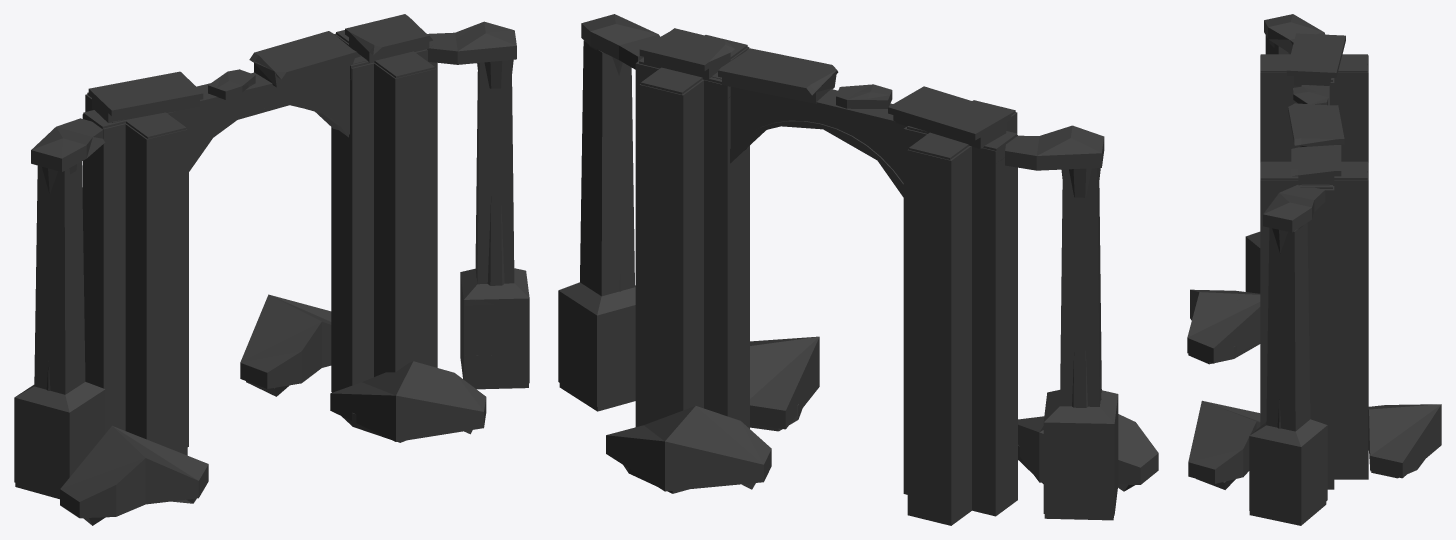
The model's file is ruinarch_01.glb.
The picture shows the model from 3 angles, left to right: view 1: azimuth 30°, elevation 25°; view 2: azimuth 150°, elevation 25°; view 3: azimuth 270°, elevation 25°; orthographic projection. The views are drawn at different scales.
Visible parts, largest first — view 1: geometry_0; view 2: geometry_0; view 3: geometry_0.
Part boxes in pixels (box(x1,y1,x2,y2)): geometry_0: box(14, 14, 529, 525); geometry_0: box(558, 14, 1158, 525); geometry_0: box(1187, 14, 1441, 525).
Size of the model in its own units: 13.29 by 8.96 by 6.44.
1 material, 1 textured.
